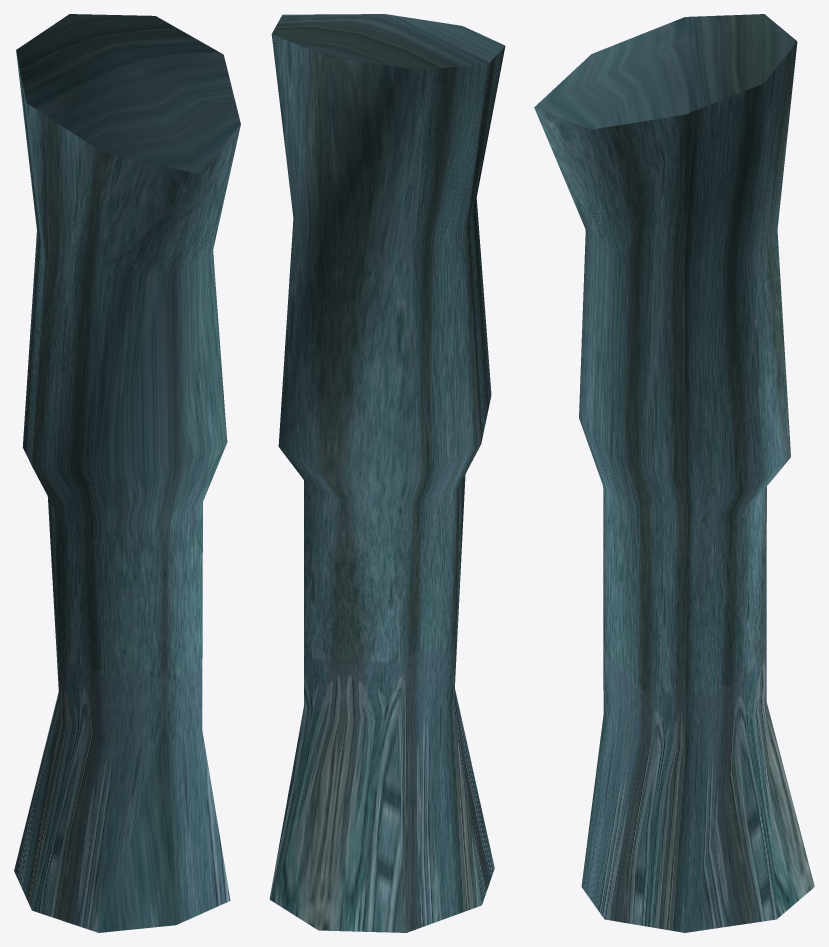
File: tikki2.obj
3 views of the same model, side by side, from view 1: azimuth 30°, elevation 25°; view 2: azimuth 150°, elevation 25°; view 3: azimuth 270°, elevation 25° (orthographic). The views are drawn at different scales.
Visible parts, largest first — view 1: tikki2; view 2: tikki2; view 3: tikki2.
Boxes of the visible parts, bbox=[...] form: tikki2: bbox=[14, 14, 240, 932]; tikki2: bbox=[269, 14, 505, 932]; tikki2: bbox=[534, 14, 814, 932].
Size of the model in its own units: 6.41 by 25.88 by 7.78.
1 material, 1 textured.
